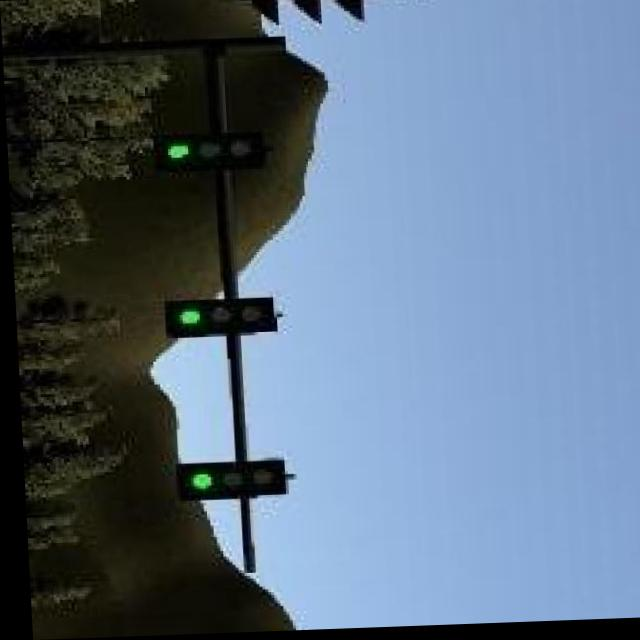green light: (155, 133, 264, 176), (171, 463, 281, 504), (160, 297, 274, 333)
